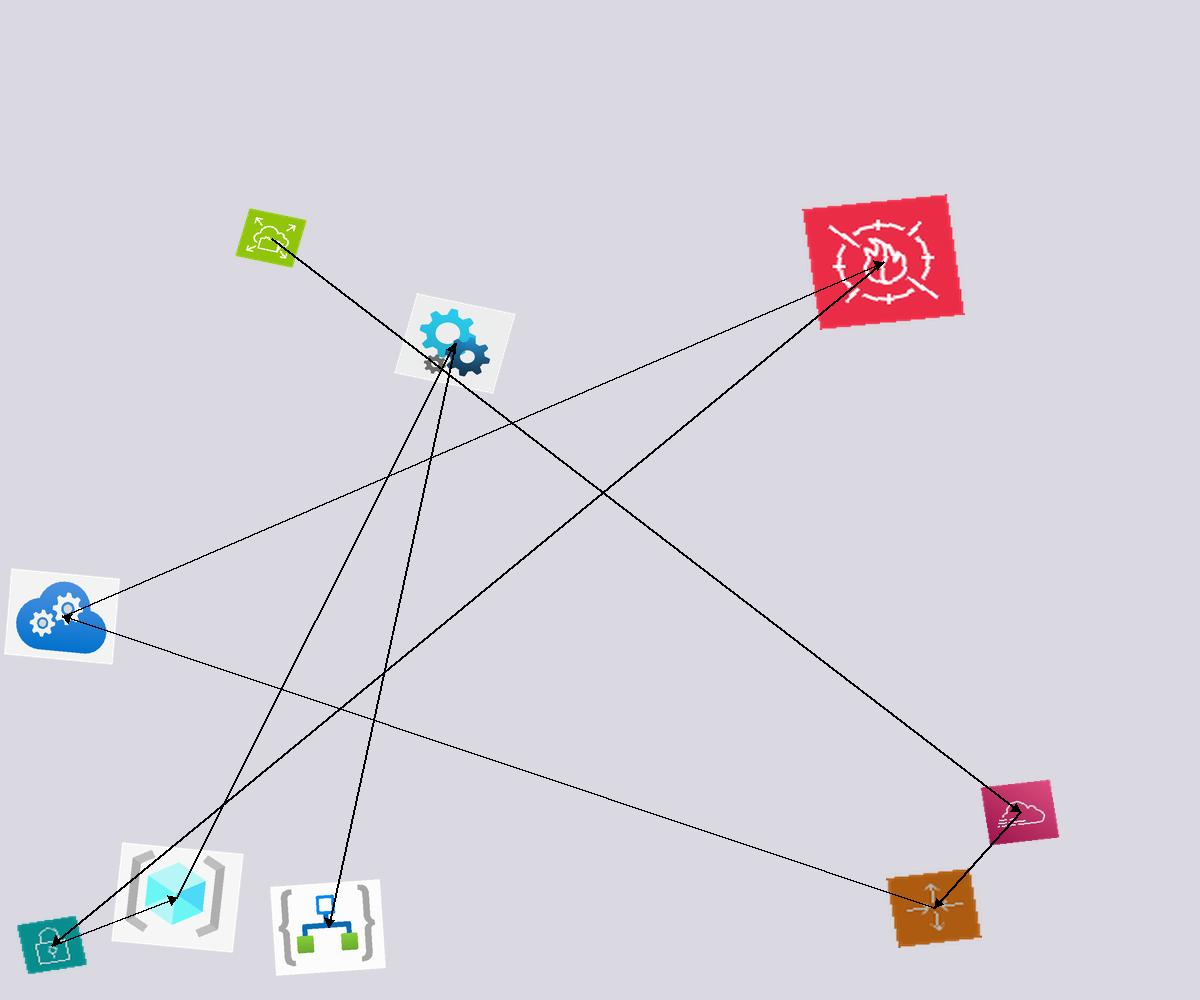AWS-CloudTrail: (980, 779, 1060, 846)
AWS-EFS: (235, 208, 307, 268)
AWS-Private-subnet: (16, 915, 88, 975)
AWS-Scaling-group: (886, 868, 982, 948)
AWS-WAF: (802, 194, 965, 330)
Azure_api: (394, 293, 516, 394)
Azure_cloud_services: (4, 568, 120, 665)
Azure_integration-204-Logic-Apps: (270, 879, 386, 976)
Azure_resource_group: (111, 842, 244, 953)
